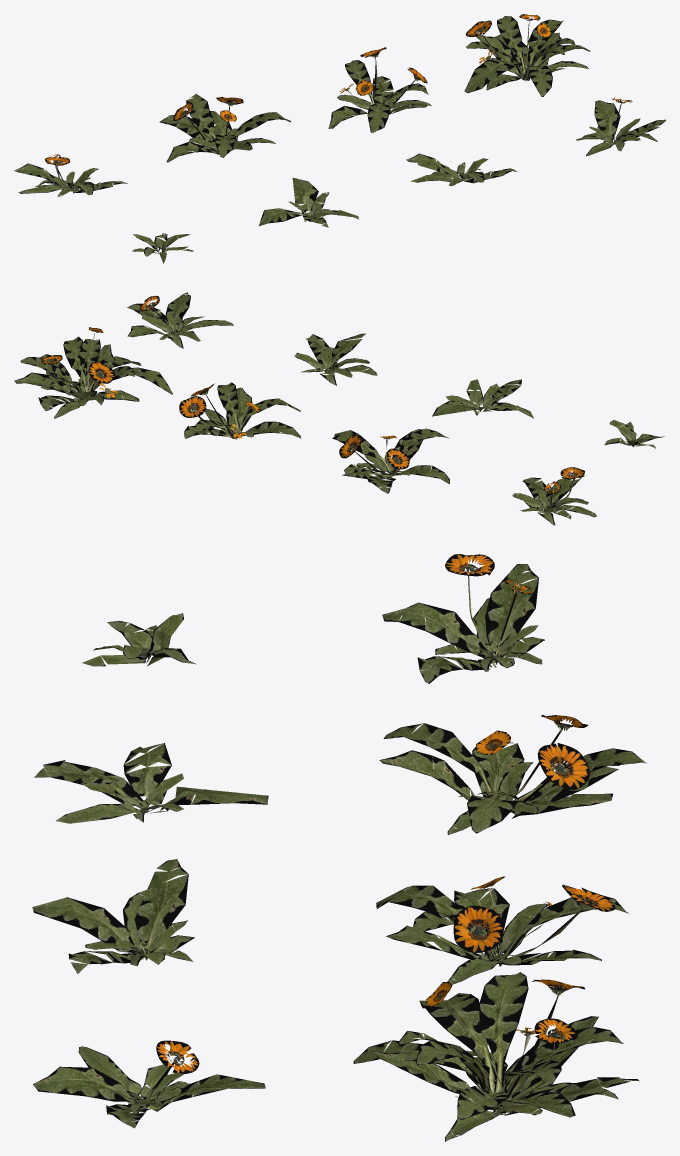
The model's file is flower_gazania.glb.
3 renders of one model, top to bottom at view 1: azimuth 30°, elevation 25°; view 2: azimuth 150°, elevation 25°; view 3: azimuth 270°, elevation 25°, orthographic. The views are drawn at different scales.
Visible parts, largest first — view 1: flower_gazania_h_LOD0, flower_gazania_f_LOD0, flower_gazania_g_LOD0, flower_gazania_d_LOD0, flower_gazania_e_LOD0, flower_gazania_b_LOD0, flower_gazania_c_LOD0, flower_gazania_a_LOD0; view 2: flower_gazania_h_LOD0, flower_gazania_g_LOD0, flower_gazania_f_LOD0, flower_gazania_d_LOD0, flower_gazania_e_LOD0, flower_gazania_c_LOD0, flower_gazania_b_LOD0, flower_gazania_a_LOD0; view 3: flower_gazania_h_LOD0, flower_gazania_f_LOD0, flower_gazania_g_LOD0, flower_gazania_e_LOD0, flower_gazania_c_LOD0, flower_gazania_d_LOD0, flower_gazania_b_LOD0, flower_gazania_a_LOD0.
Boxes of the visible parts, x1,y1,x2,y2 form: flower_gazania_h_LOD0: (464, 14, 590, 96); flower_gazania_f_LOD0: (159, 94, 290, 162); flower_gazania_g_LOD0: (328, 47, 431, 132); flower_gazania_d_LOD0: (576, 96, 665, 156); flower_gazania_e_LOD0: (14, 154, 127, 196); flower_gazania_b_LOD0: (258, 178, 358, 227); flower_gazania_c_LOD0: (406, 153, 517, 186); flower_gazania_a_LOD0: (132, 233, 193, 263); flower_gazania_h_LOD0: (14, 327, 172, 418); flower_gazania_g_LOD0: (179, 382, 301, 439); flower_gazania_f_LOD0: (332, 428, 449, 493); flower_gazania_d_LOD0: (127, 292, 233, 348); flower_gazania_e_LOD0: (512, 467, 596, 525); flower_gazania_c_LOD0: (294, 333, 377, 385); flower_gazania_b_LOD0: (432, 379, 533, 418); flower_gazania_a_LOD0: (604, 420, 664, 448); flower_gazania_h_LOD0: (353, 972, 639, 1141); flower_gazania_f_LOD0: (379, 714, 646, 834); flower_gazania_g_LOD0: (376, 876, 628, 984); flower_gazania_e_LOD0: (382, 554, 544, 683); flower_gazania_c_LOD0: (32, 859, 194, 973); flower_gazania_d_LOD0: (33, 1040, 265, 1128); flower_gazania_b_LOD0: (34, 743, 268, 823); flower_gazania_a_LOD0: (82, 613, 196, 666).
Bounding box in the file's own units: 1.48 × 0.1653 × 0.7029.
1 material, 1 textured.
